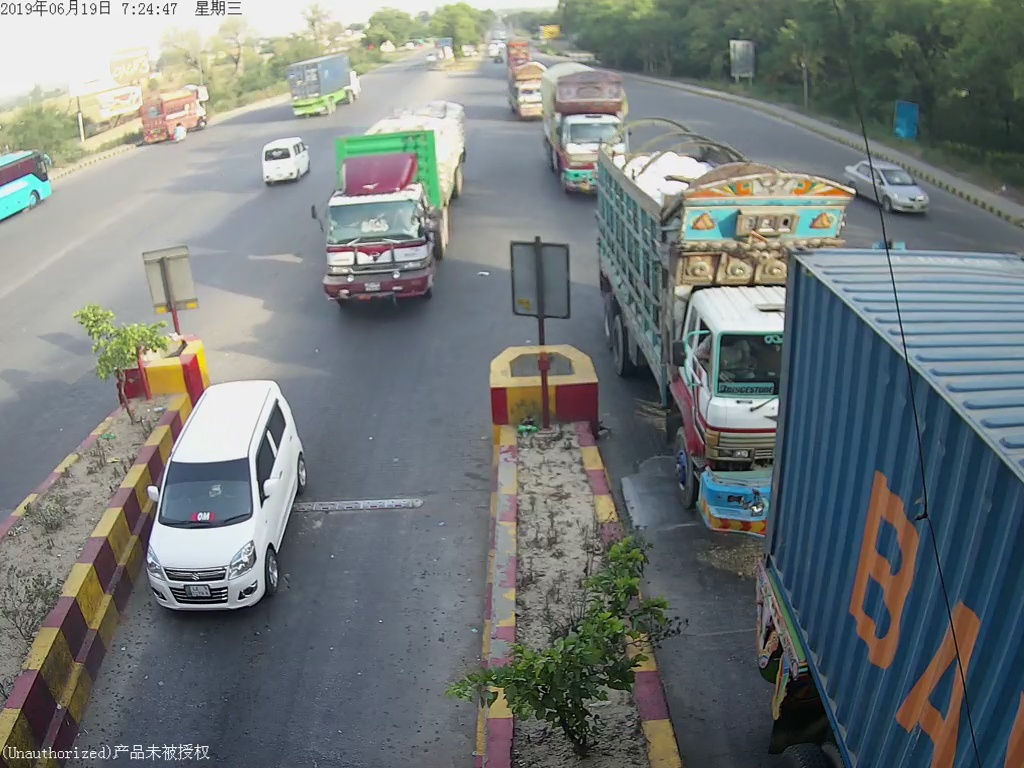Cat-1: (138, 374, 321, 626)
Cat-4: (598, 121, 757, 516)
Cat-5: (319, 102, 469, 312)
